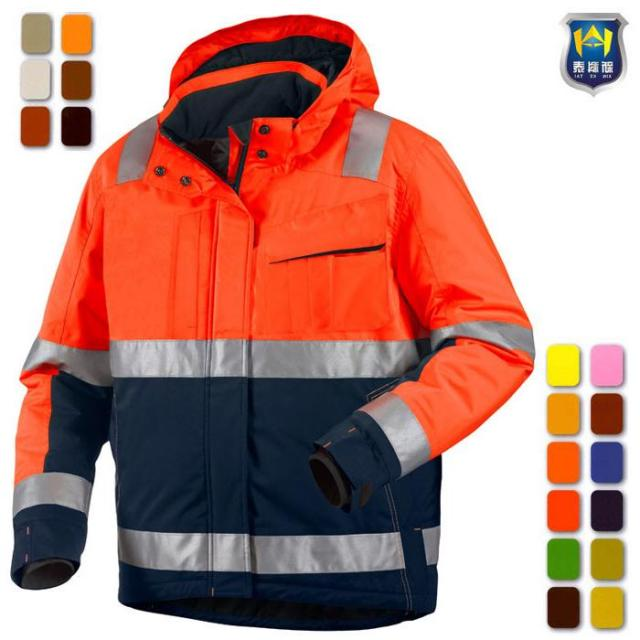Reflective-Jacket: (0, 9, 541, 640)
